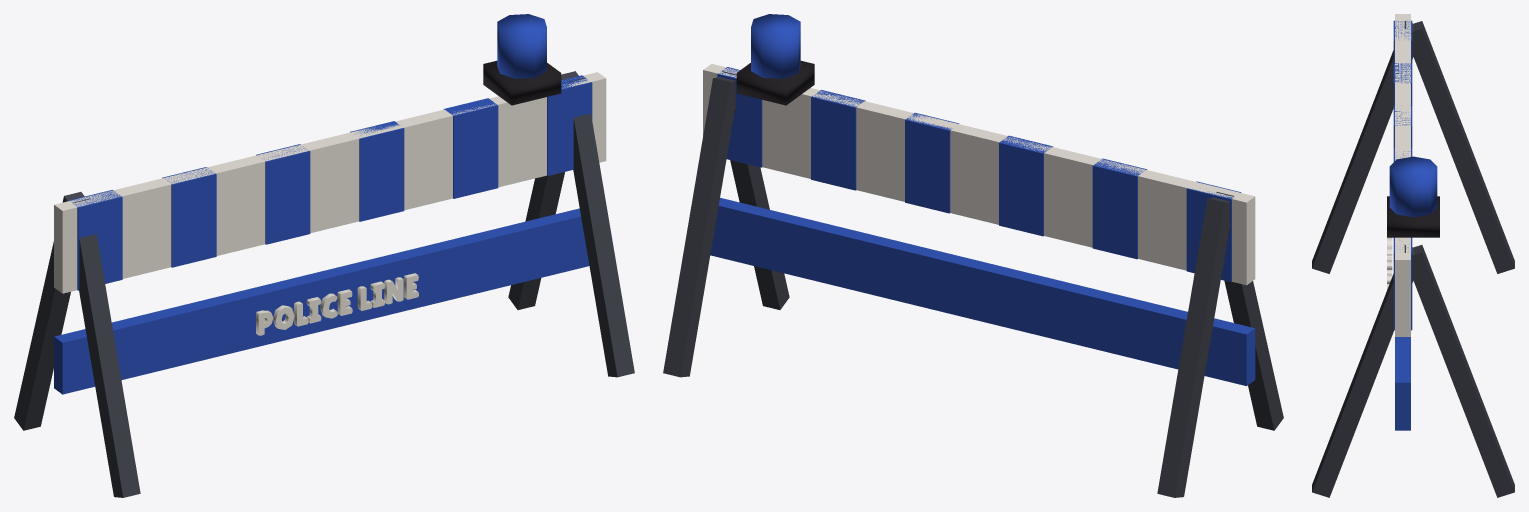
Rendered from city_police_barrier.glb.
The picture shows the model from 3 angles, left to right: view 1: azimuth 30°, elevation 25°; view 2: azimuth 150°, elevation 25°; view 3: azimuth 270°, elevation 25°; orthographic projection. The views are drawn at different scales.
Visible parts, largest first — view 1: PoliceBarrier; view 2: PoliceBarrier; view 3: PoliceBarrier.
Boxes of the visible parts, x1,y1,x2,y2 form: PoliceBarrier: (14,14,634,497); PoliceBarrier: (663,14,1283,497); PoliceBarrier: (1312,14,1514,497).
Bounding box in the file's own units: 2.2 × 1.27 × 0.7661.
